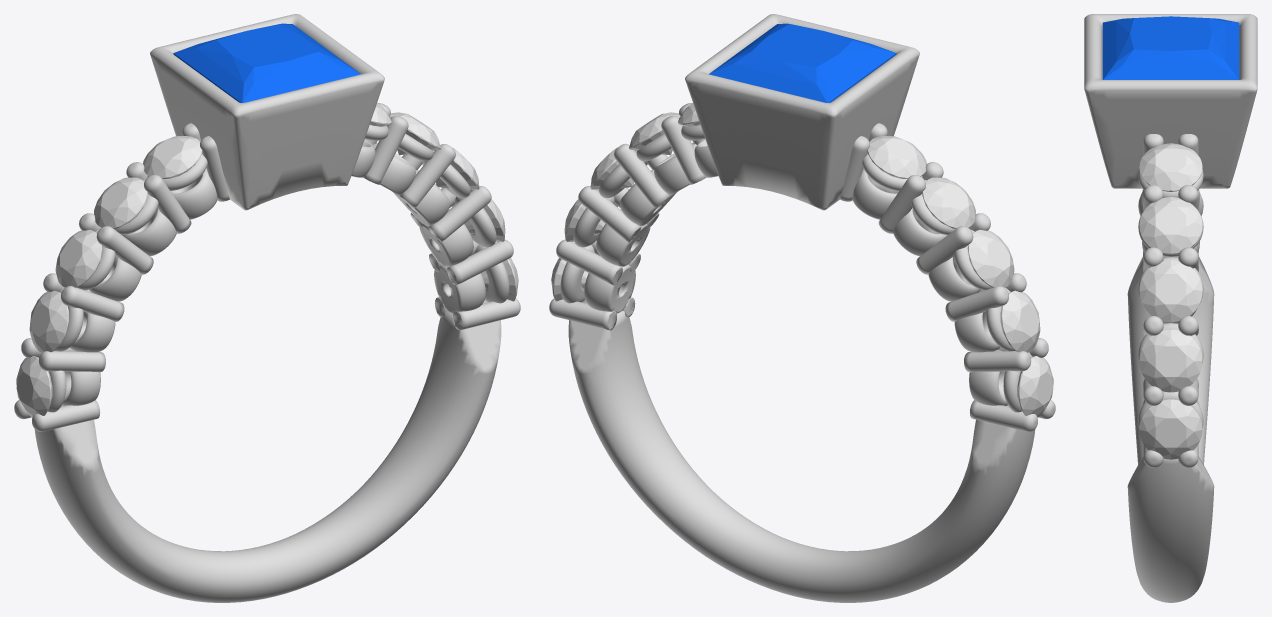
Rendered from bluesapphire-princess-platinum-bezelset-taperedband-11stone.glb.
3 renders of one model, left to right at view 1: azimuth 30°, elevation 25°; view 2: azimuth 150°, elevation 25°; view 3: azimuth 270°, elevation 25°, orthographic.
Visible parts, largest first — view 1: metal, stone, side.002, side.003, side.001, side.004, side, side.006; view 2: metal, stone, side.002, side.003, side.001, side.004, side, side.006; view 3: metal, stone, side.008, side.007, side.009, side.006, side.005.
Part boxes in pixels (<box>): metal: <box>14,14,520,602</box>; stone: <box>173,23,360,102</box>; side.002: <box>55,229,102,287</box>; side.003: <box>94,177,147,228</box>; side.001: <box>29,290,69,352</box>; side.004: <box>143,136,202,178</box>; side: <box>16,356,52,417</box>; side.006: <box>389,112,440,155</box>; metal: <box>549,14,1055,602</box>; stone: <box>709,23,896,102</box>; side.002: <box>967,229,1014,287</box>; side.003: <box>922,177,975,228</box>; side.001: <box>1000,290,1040,352</box>; side.004: <box>867,136,926,178</box>; side: <box>1017,356,1053,417</box>; side.006: <box>629,112,680,155</box>; metal: <box>1084,14,1257,602</box>; stone: <box>1102,16,1239,79</box>; side.008: <box>1139,329,1202,392</box>; side.007: <box>1139,260,1202,322</box>; side.009: <box>1139,399,1202,459</box>; side.006: <box>1139,197,1202,254</box>; side.005: <box>1139,143,1202,191</box>.
Size of the model in its own units: 22.2 by 23.85 by 6.89.
